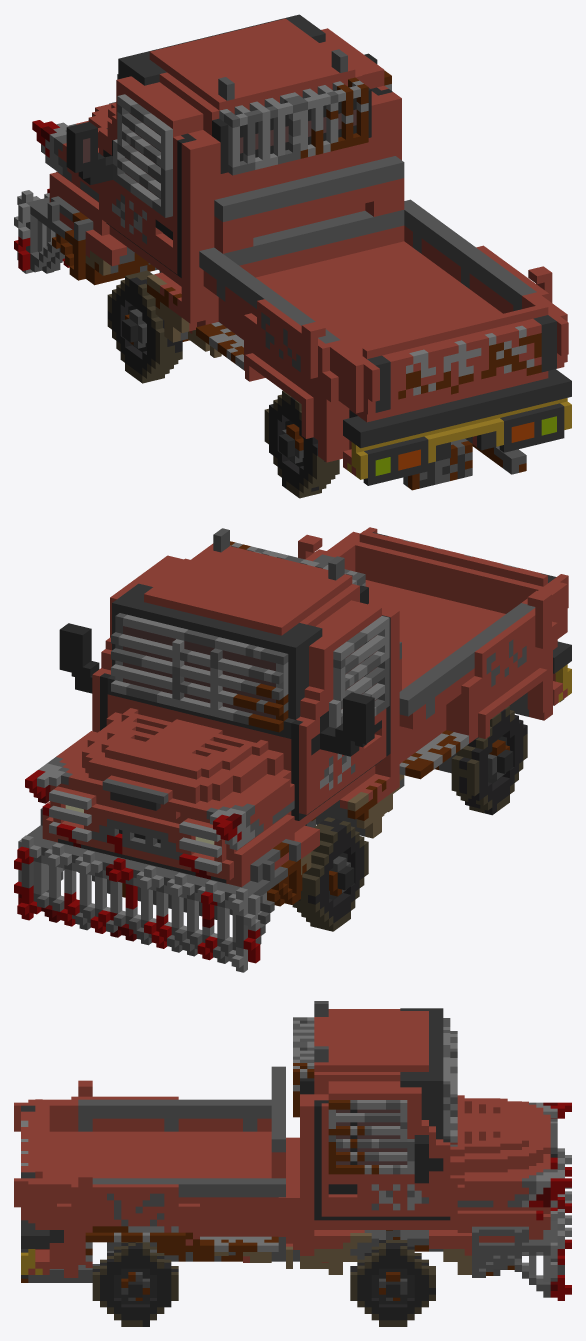
The model's file is Voxel_Truck.obj.
3 views of the same model, one above another, from view 1: azimuth 30°, elevation 25°; view 2: azimuth 150°, elevation 25°; view 3: azimuth 270°, elevation 25° (orthographic). The views are drawn at different scales.
Size of the model in its own units: 4 by 4 by 7.8.
1 material, 1 textured.
